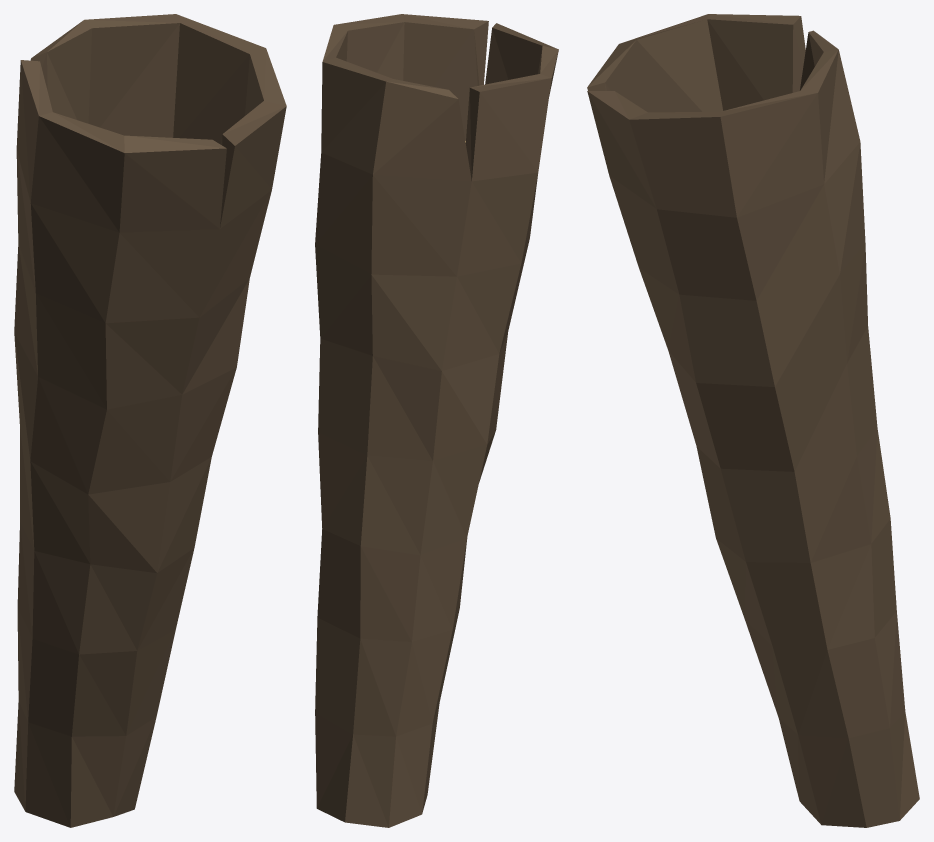
The model's file is trunk.dae.
The picture shows the model from 3 angles, left to right: view 1: azimuth 30°, elevation 25°; view 2: azimuth 150°, elevation 25°; view 3: azimuth 270°, elevation 25°; orthographic projection. The views are drawn at different scales.
Parts seen in each view (by area): view 1: Cylinder; view 2: Cylinder; view 3: Cylinder.
Boxes of the visible parts, x1=… form: Cylinder: x1=14, y1=14, x2=286, y2=827; Cylinder: x1=315, y1=14, x2=558, y2=827; Cylinder: x1=587, y1=14, x2=919, y2=827.
Size of the model in its own units: 1.11 by 1.44 by 3.6.
